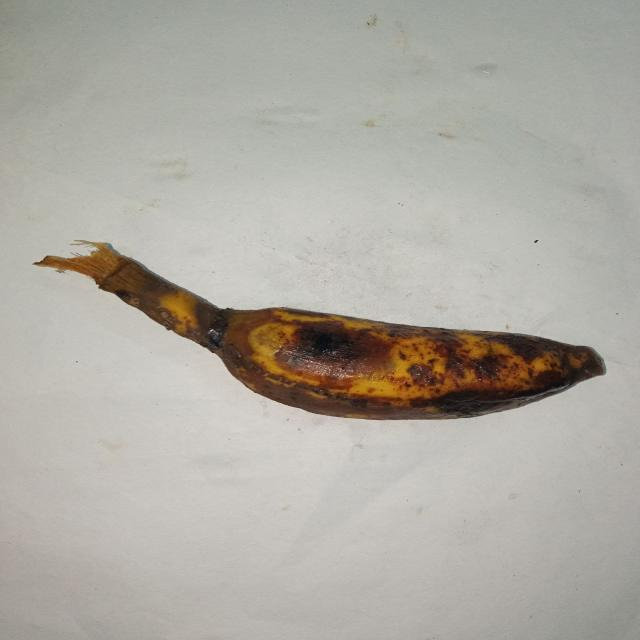rotten_banana: (93, 256, 607, 420)
